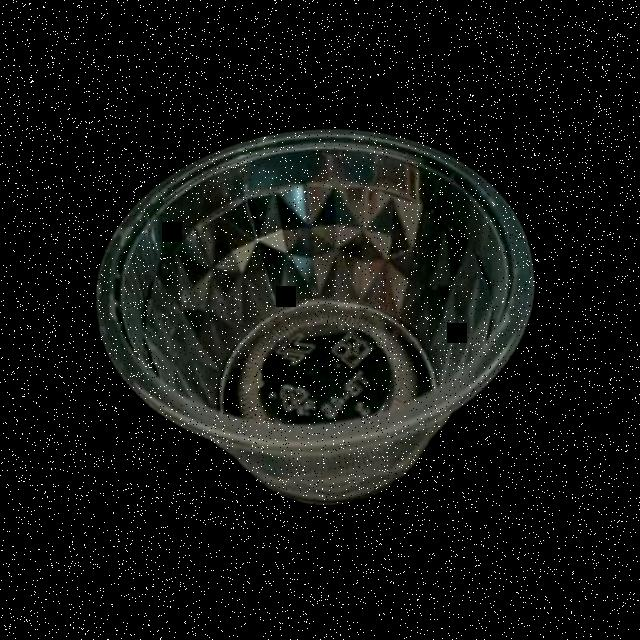plastic_box: (74, 100, 563, 532)
